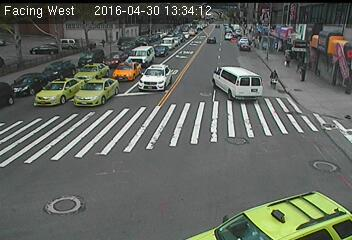neg: (266, 68, 282, 90), (237, 44, 250, 62), (146, 102, 159, 120), (230, 76, 241, 90), (63, 101, 74, 115), (68, 144, 79, 158), (222, 41, 231, 54), (192, 58, 201, 70), (62, 66, 71, 78), (164, 54, 173, 65), (113, 82, 122, 93), (101, 38, 109, 49), (104, 66, 111, 76), (34, 86, 41, 95)
pos: (297, 62, 311, 81), (283, 54, 294, 68)
